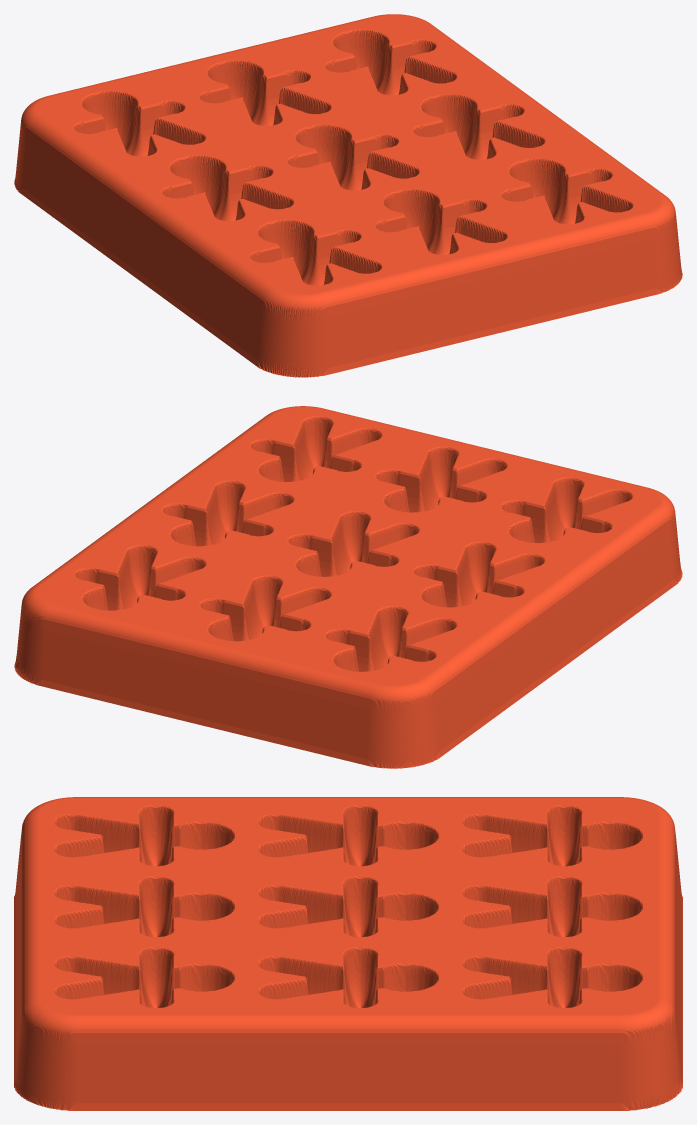
Rendered from mold.glb.
3 renders of one model, top to bottom at view 1: azimuth 30°, elevation 25°; view 2: azimuth 150°, elevation 25°; view 3: azimuth 270°, elevation 25°, orthographic. The views are drawn at different scales.
Visible parts, largest first — view 1: geometry_0; view 2: geometry_0; view 3: geometry_0.
Part boxes in pixels (x1=…): geometry_0: x1=14, y1=14, x2=682, y2=377; geometry_0: x1=14, y1=406, x2=682, y2=768; geometry_0: x1=14, y1=797, x2=682, y2=1110.
Size of the model in its own units: 0.0808 by 0.0136 by 0.0964.
